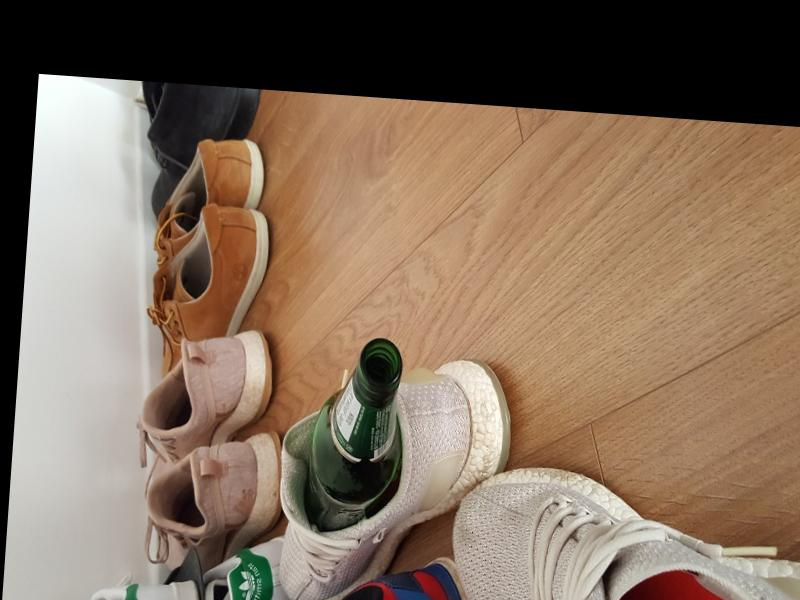Beer: (301, 333, 406, 534)
